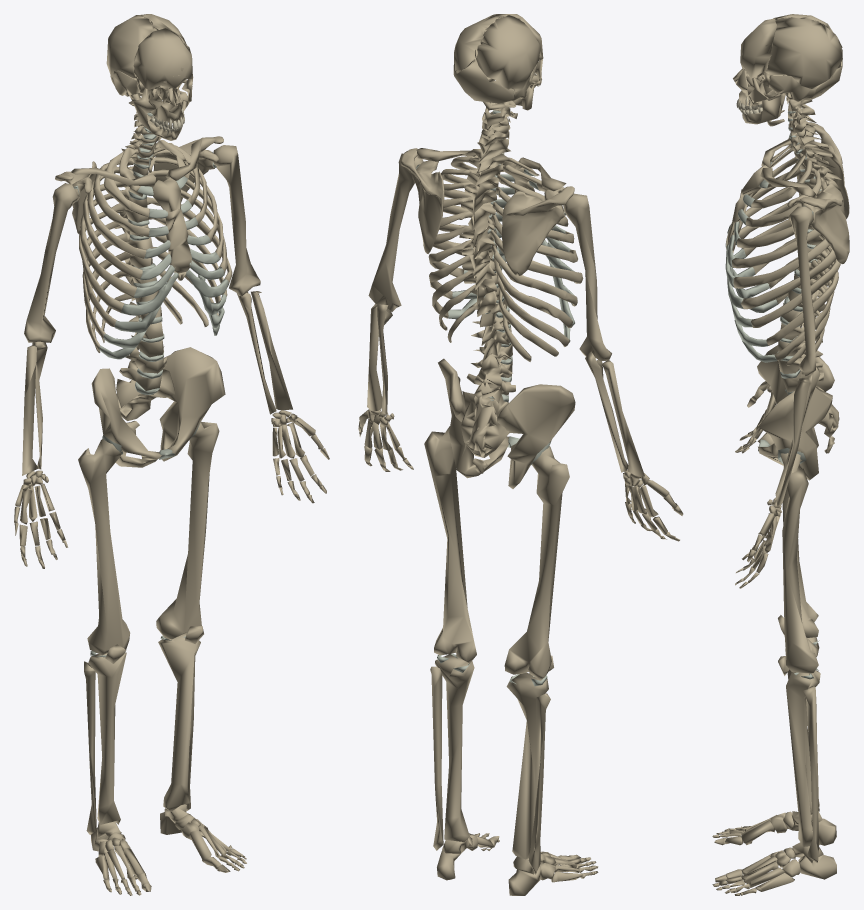
File: body.intro.glb
The picture shows the model from 3 angles, left to right: view 1: azimuth 30°, elevation 25°; view 2: azimuth 150°, elevation 25°; view 3: azimuth 270°, elevation 25°; orthographic projection. The views are drawn at different scales.
Visible parts, largest first — view 1: proxy__skeleton; view 2: proxy__skeleton; view 3: proxy__skeleton.
Boxes of the visible parts, x1,y1,x2,y2 form: proxy__skeleton: [14, 14, 329, 895]; proxy__skeleton: [358, 14, 683, 895]; proxy__skeleton: [712, 14, 849, 895].
Bounding box in the file's own units: 0.6675 × 1.7 × 0.2494.
